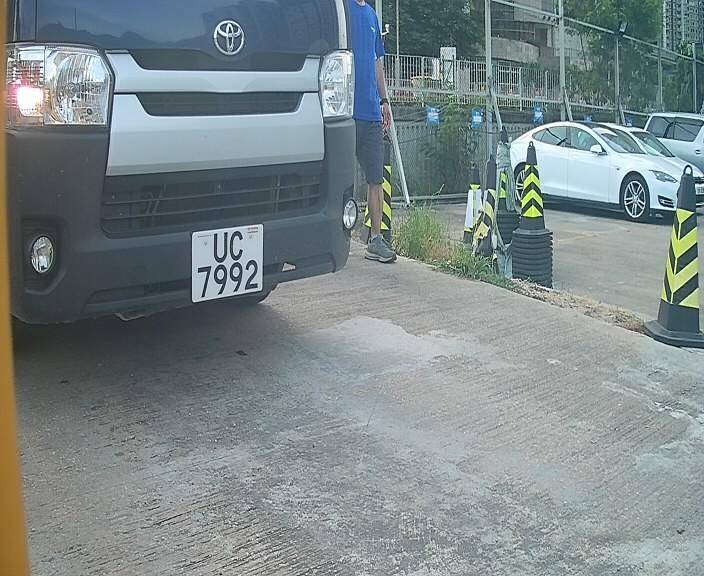privatecar: (4, 1, 381, 361)
